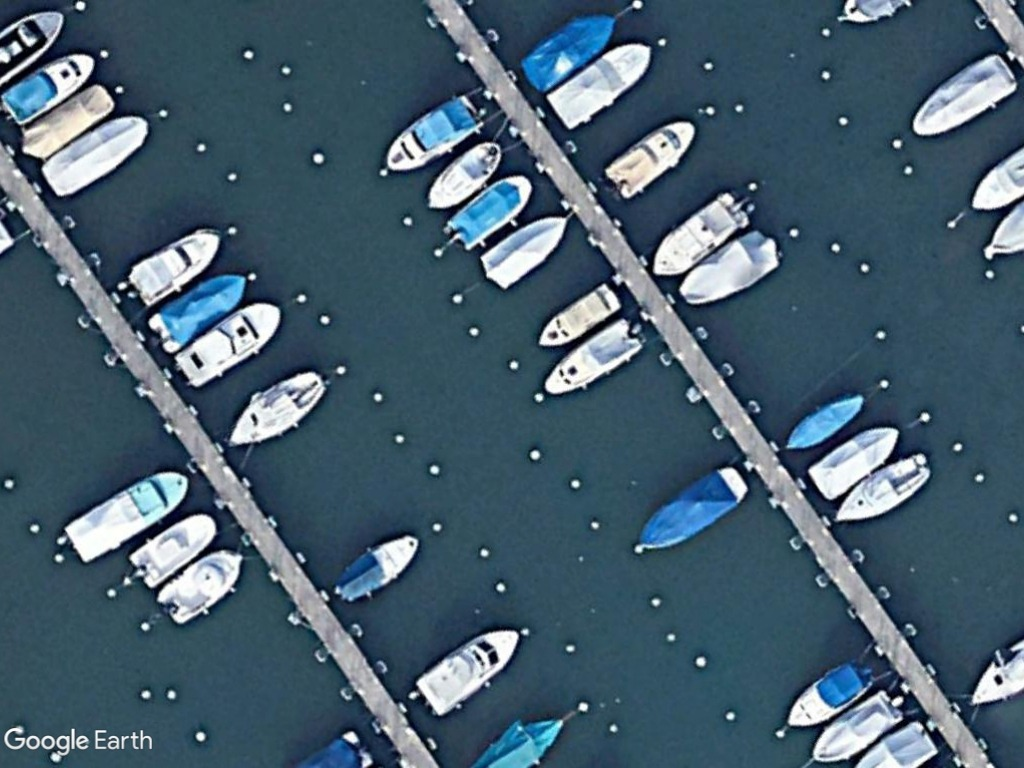boat: (58, 470, 191, 564), (539, 41, 657, 130), (409, 629, 524, 720), (631, 465, 749, 553), (34, 114, 153, 201), (645, 192, 754, 282), (173, 299, 283, 387), (912, 53, 1015, 141), (519, 8, 622, 94), (16, 82, 118, 167), (224, 368, 328, 451), (380, 94, 486, 175), (538, 320, 644, 401), (148, 271, 249, 355), (601, 116, 701, 200), (126, 223, 224, 305), (0, 51, 107, 125), (827, 451, 932, 526), (677, 231, 781, 306), (806, 422, 903, 501), (479, 214, 574, 293), (154, 548, 245, 627), (126, 514, 220, 589), (446, 172, 535, 250), (809, 694, 905, 765), (784, 659, 877, 730), (331, 533, 422, 603), (421, 140, 506, 213), (535, 283, 622, 348), (783, 387, 868, 453)
